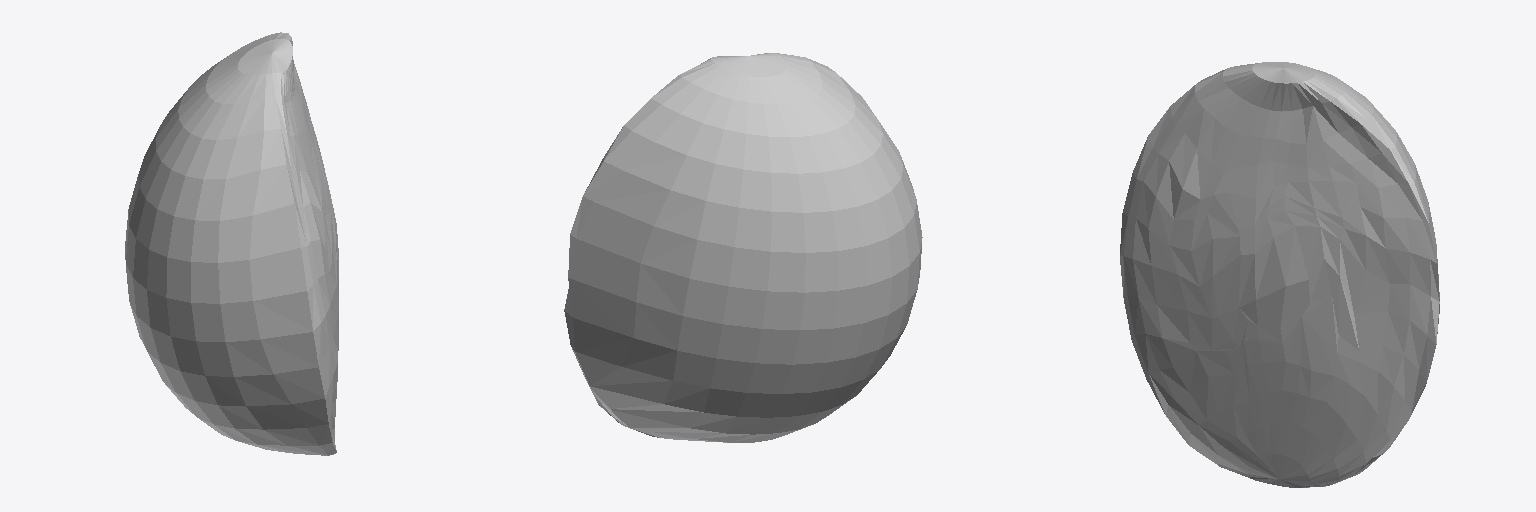
The model's file is Backpack.obj.
The picture shows the model from 3 angles: view 1: azimuth 30°, elevation 25°; view 2: azimuth 150°, elevation 25°; view 3: azimuth 270°, elevation 25°; orthographic projection.
Visible parts, largest first — view 1: Backpack_Sphere.004; view 2: Backpack_Sphere.004; view 3: Backpack_Sphere.004.
Part boxes in pixels (x1,y1,x2,y2): Backpack_Sphere.004: (125, 32, 338, 455); Backpack_Sphere.004: (564, 53, 922, 442); Backpack_Sphere.004: (1120, 62, 1439, 487).
Size of the model in its own units: 1.29 by 1.93 by 1.43.